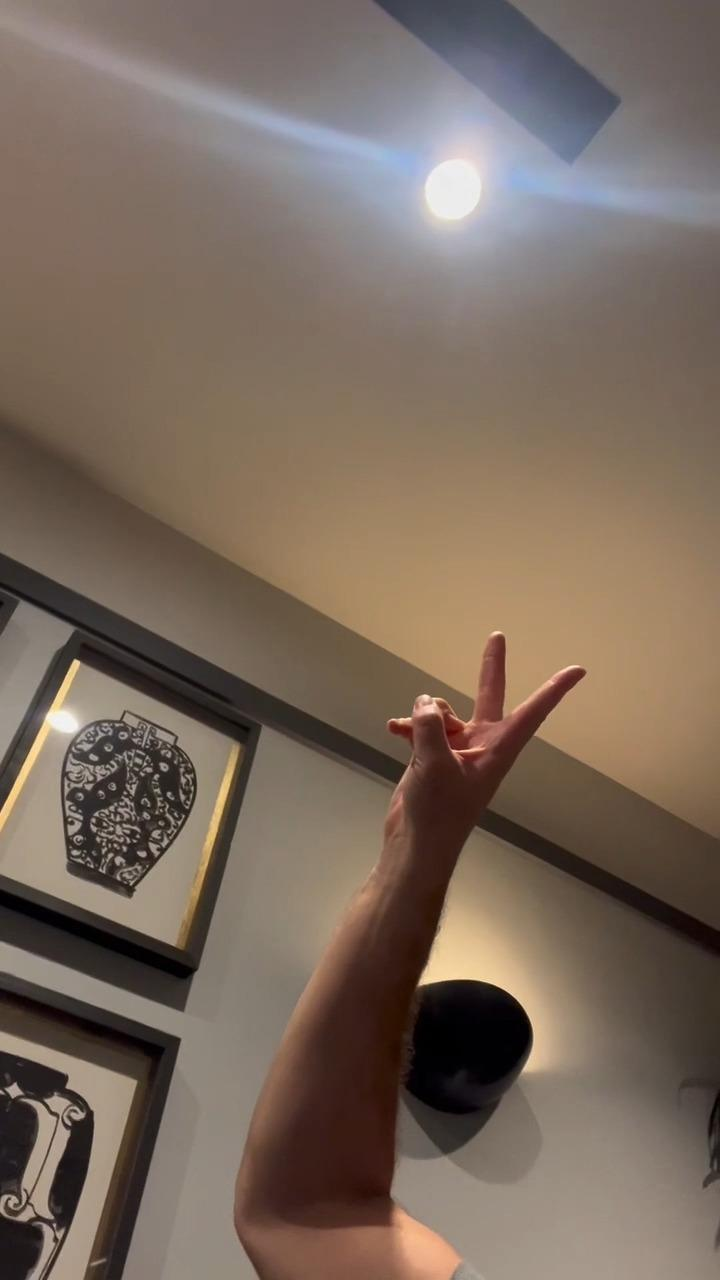Scissors: (390, 630, 592, 841)
